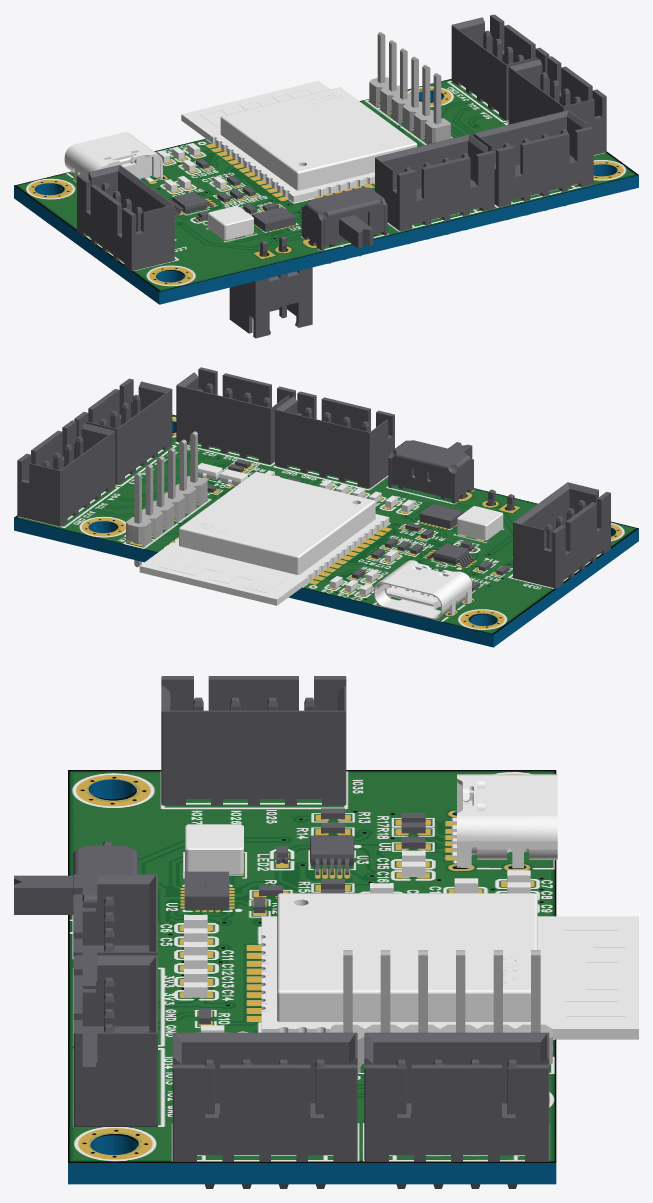
Rendered from board.glb.
3 renders of one model, top to bottom at view 1: azimuth 30°, elevation 25°; view 2: azimuth 150°, elevation 25°; view 3: azimuth 270°, elevation 25°, orthographic. The views are drawn at different scales.
Visible parts, largest first — view 1: Board-mesh, U4-mesh, CN6-mesh, CN4-mesh, CN3-mesh, CN7-mesh, CN1-mesh, H1-mesh, CN2-mesh, SW1-mesh (×2), USB1-mesh, L1-mesh (+2 smaller); view 2: Board-mesh, U4-mesh, CN6-mesh, CN3-mesh, CN7-mesh, CN4-mesh, CN1-mesh, H1-mesh, USB1-mesh, SW1-mesh, L1-mesh, U2-mesh (+1 smaller); view 3: Board-mesh, U4-mesh, CN7-mesh, CN1-mesh, CN3-mesh, CN4-mesh, USB1-mesh, CN6-mesh, H1-mesh, SW1-mesh (×2), L1-mesh, U2-mesh (+1 smaller).
Boxes of the visible parts, x1=… form: Board-mesh: x1=14, y1=79, x2=638, y2=304; U4-mesh: x1=181, y1=80, x2=417, y2=202; CN6-mesh: x1=375, y1=134, x2=494, y2=244; CN4-mesh: x1=473, y1=110, x2=593, y2=220; CN3-mesh: x1=76, y1=165, x2=174, y2=271; CN7-mesh: x1=451, y1=14, x2=549, y2=120; CN1-mesh: x1=508, y1=56, x2=606, y2=154; H1-mesh: x1=369, y1=32, x2=450, y2=144; CN2-mesh: x1=229, y1=236, x2=312, y2=338; SW1-mesh (×2): x1=301, y1=187, x2=387, y2=250; USB1-mesh: x1=64, y1=132, x2=162, y2=182; L1-mesh: x1=208, y1=205, x2=253, y2=240; Board-mesh: x1=14, y1=414, x2=638, y2=647; U4-mesh: x1=139, y1=471, x2=389, y2=605; CN6-mesh: x1=275, y1=391, x2=394, y2=488; CN3-mesh: x1=513, y1=482, x2=610, y2=588; CN7-mesh: x1=17, y1=420, x2=115, y2=526; CN4-mesh: x1=176, y1=367, x2=295, y2=464; CN1-mesh: x1=74, y1=378, x2=172, y2=484; H1-mesh: x1=126, y1=431, x2=207, y2=567; USB1-mesh: x1=374, y1=560, x2=471, y2=619; SW1-mesh: x1=388, y1=440, x2=473, y2=503; L1-mesh: x1=457, y1=506, x2=503, y2=540; U2-mesh: x1=419, y1=504, x2=463, y2=528; Board-mesh: x1=68, y1=770, x2=556, y2=1184; U4-mesh: x1=261, y1=893, x2=638, y2=1039; CN7-mesh: x1=364, y1=1032, x2=549, y2=1188; CN1-mesh: x1=172, y1=1032, x2=357, y2=1188; CN3-mesh: x1=161, y1=676, x2=346, y2=805; CN4-mesh: x1=73, y1=955, x2=157, y2=1126; USB1-mesh: x1=451, y1=774, x2=557, y2=868; CN6-mesh: x1=73, y1=874, x2=157, y2=988; H1-mesh: x1=331, y1=950, x2=552, y2=1073; SW1-mesh (×2): x1=14, y1=845, x2=138, y2=957; L1-mesh: x1=185, y1=824, x2=243, y2=874; U2-mesh: x1=184, y1=871, x2=229, y2=910.
Size of the model in its own units: 0.0628 by 0.0175 by 0.0422.
Materials: 6 (2 with a texture image).
